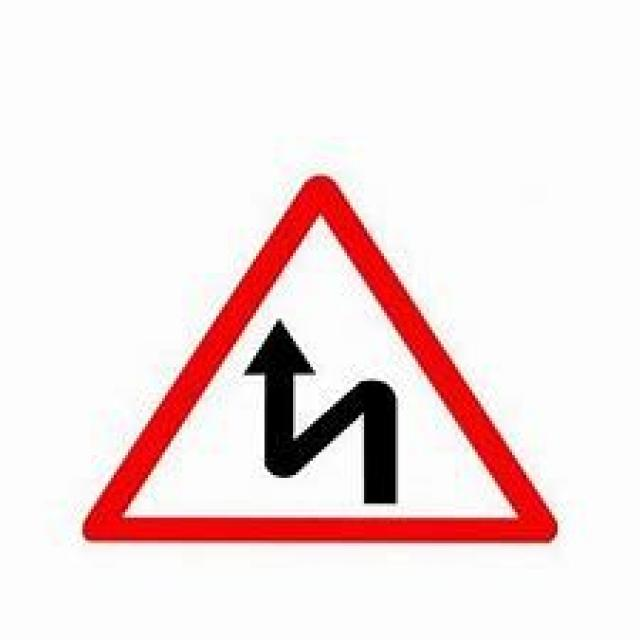LEFT_REVERSE_BEND: (80, 170, 554, 538)
